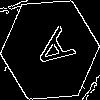A: (25, 25, 77, 79)
